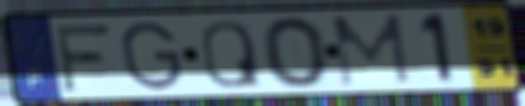1: (416, 10, 457, 87)
F: (51, 21, 114, 94)
G: (117, 19, 186, 92)
M: (328, 12, 414, 89)
O: (259, 14, 333, 91)
Q: (198, 18, 265, 90)
